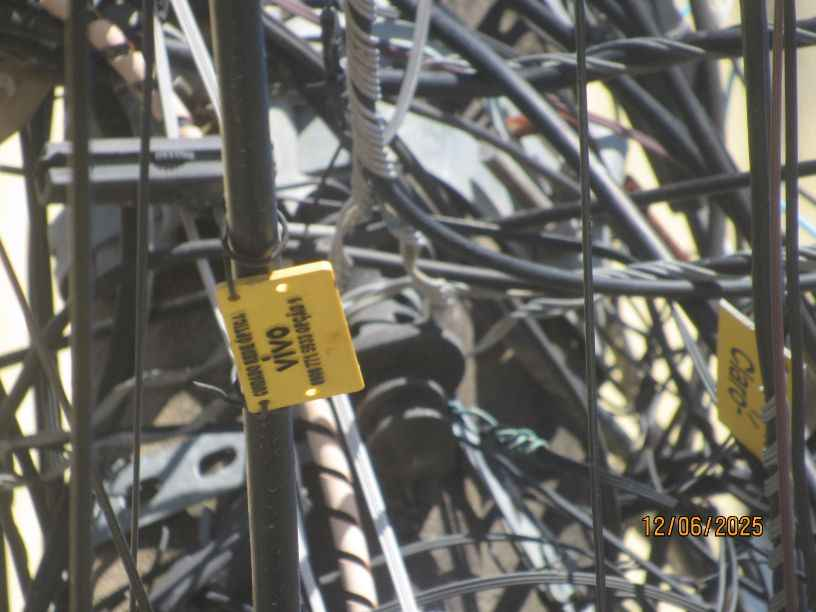fibra_optica: (208, 267, 377, 420), (700, 283, 808, 477)
